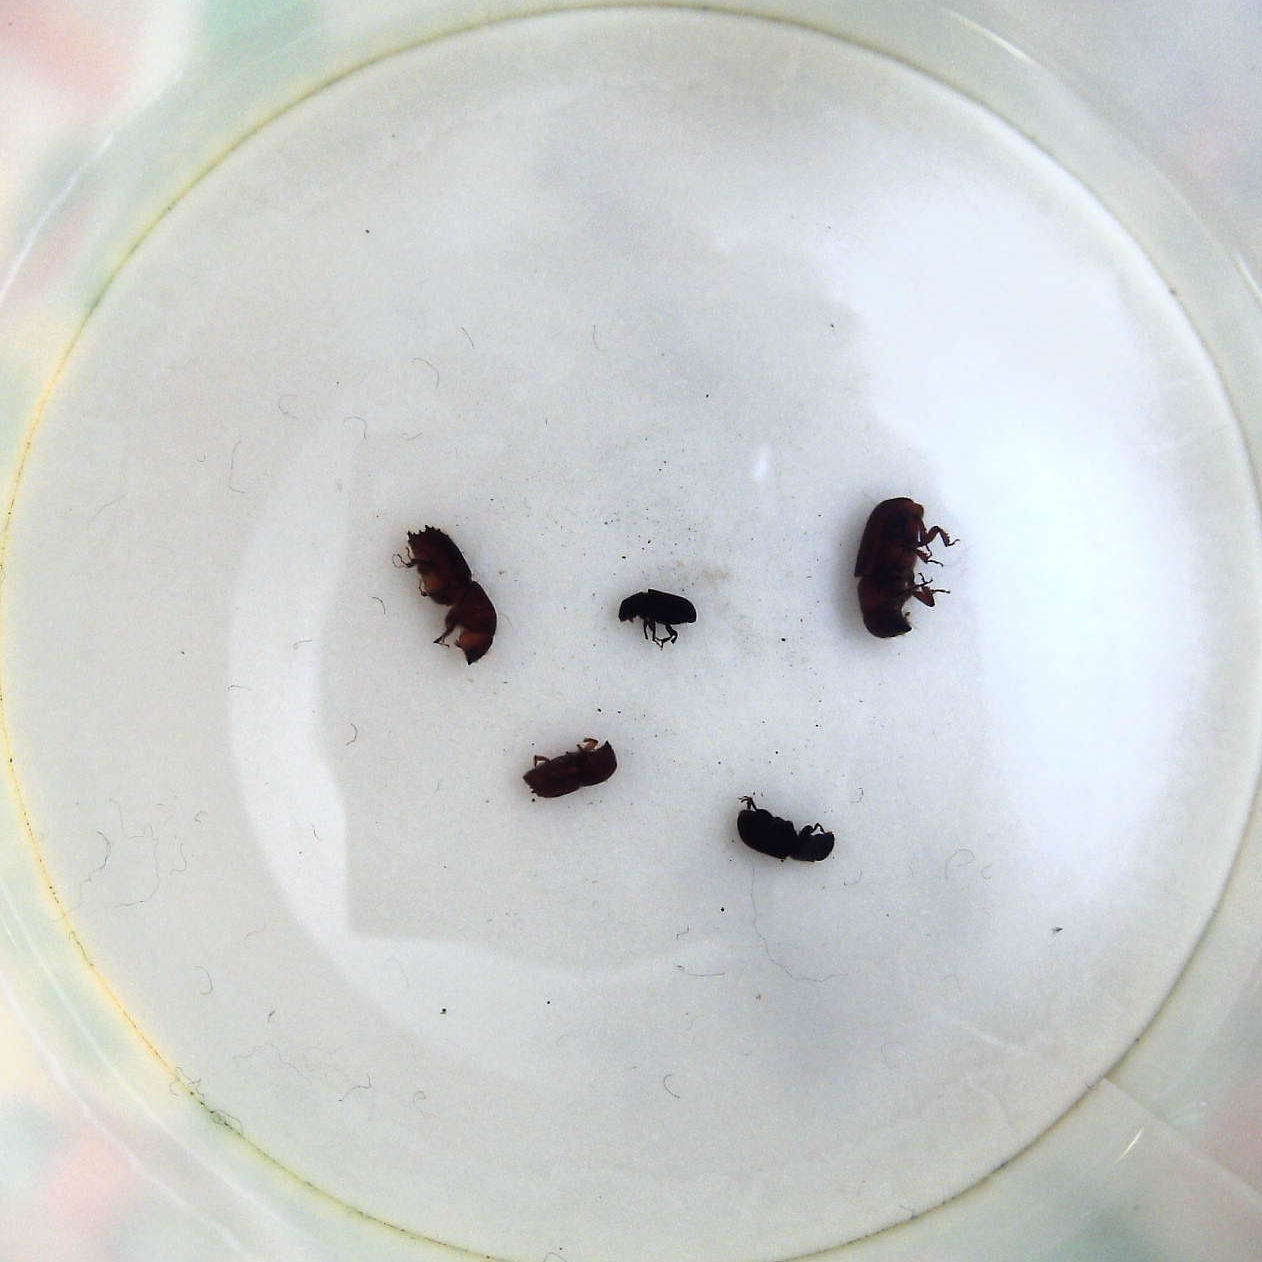Boerner: (398, 524, 502, 669)
Leconte: (851, 496, 956, 640)
armandi: (732, 789, 841, 869)
coleoptera: (614, 586, 700, 652)
linnaeus: (521, 740, 624, 801)
